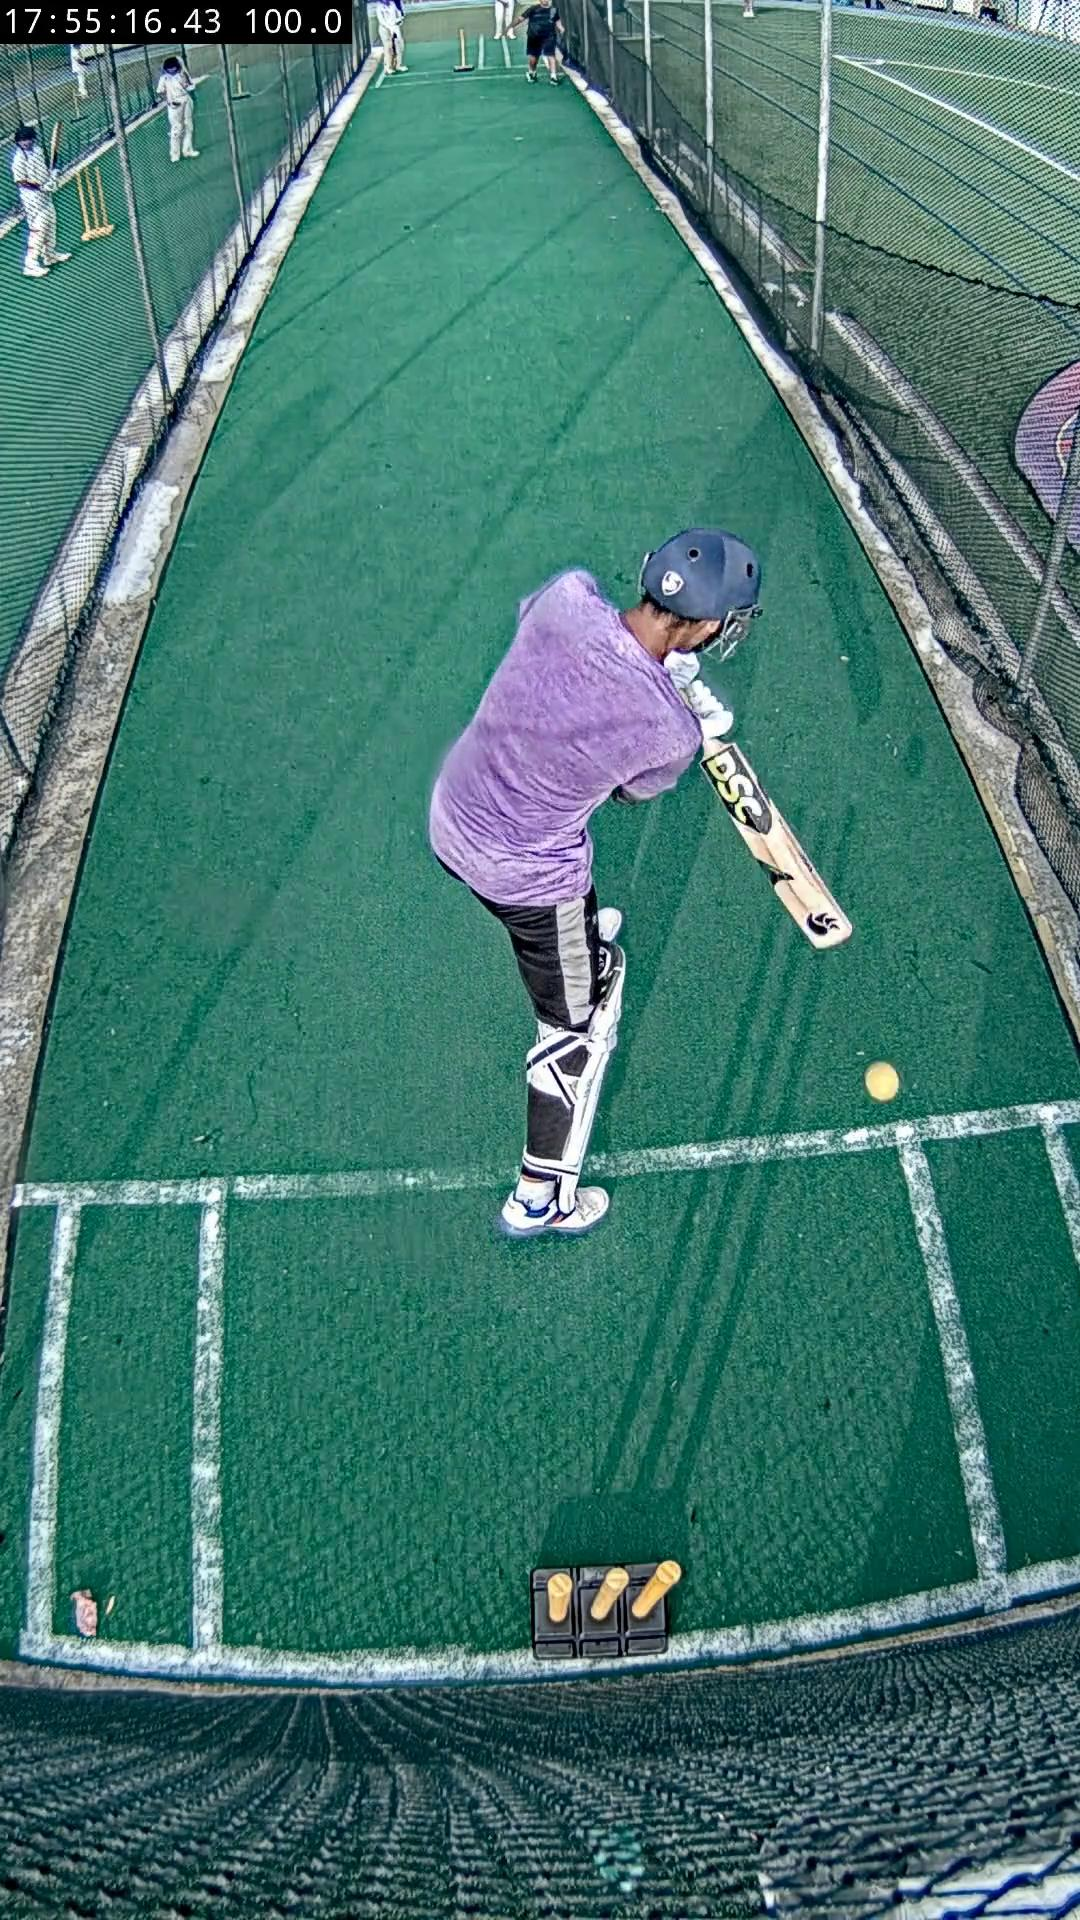ball: (866, 1062, 899, 1102)
bat: (702, 738, 852, 948)
gloves: (663, 653, 735, 738)
helmet: (641, 529, 761, 659)
pads: (554, 942, 626, 1212)
stumps: (533, 1560, 683, 1662)
